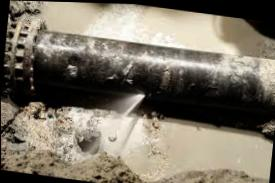leak: (83, 3, 188, 46), (87, 87, 148, 135)
